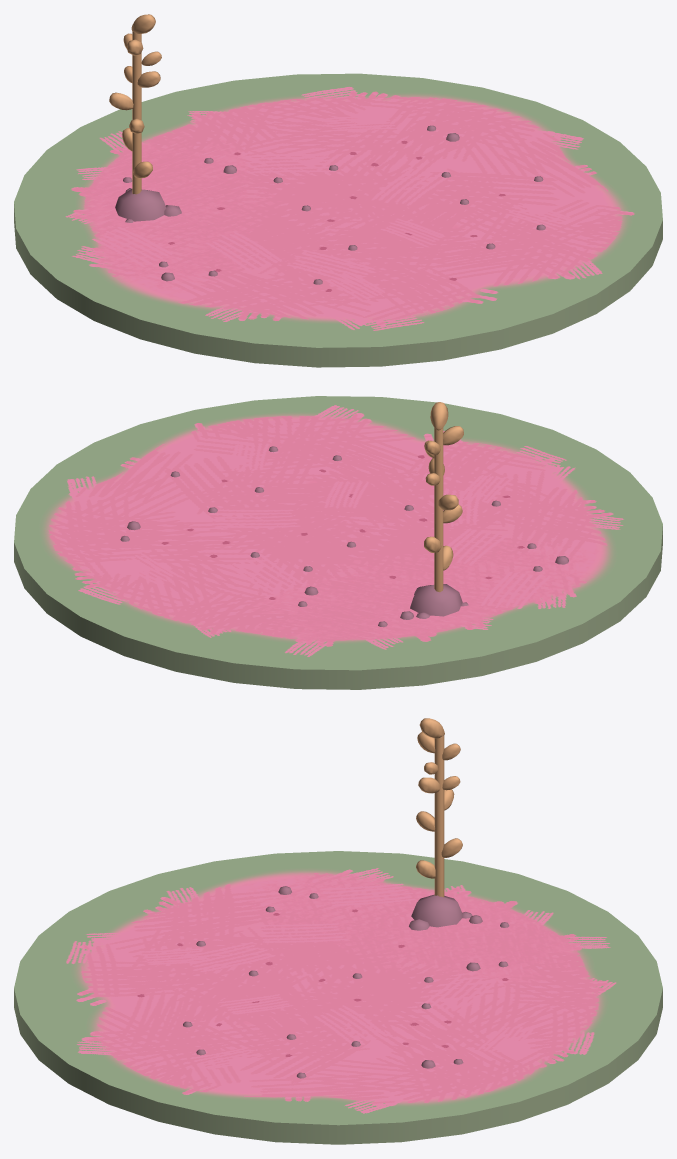
The model's file is Farm.fbx.
The picture shows the model from 3 angles, top to bottom: view 1: azimuth 30°, elevation 25°; view 2: azimuth 150°, elevation 25°; view 3: azimuth 270°, elevation 25°; orthographic projection.
Parts seen in each view (by area): view 1: Farm_Land_base, wheat, wheat_land; view 2: Farm_Land_base, wheat, wheat_land; view 3: Farm_Land_base, wheat, wheat_land.
Part boxes in pixels (box(x1,y1,x2,y2)): Farm_Land_base: box(14, 73, 662, 367); wheat: box(109, 14, 161, 194); wheat_land: box(115, 189, 181, 222); Farm_Land_base: box(14, 396, 662, 689); wheat: box(424, 402, 463, 592); wheat_land: box(410, 584, 468, 618); Farm_Land_base: box(14, 851, 662, 1144); wheat: box(416, 718, 462, 897); wheat_land: box(409, 894, 472, 930).
Size of the model in its own units: 45 by 16.67 by 45.
